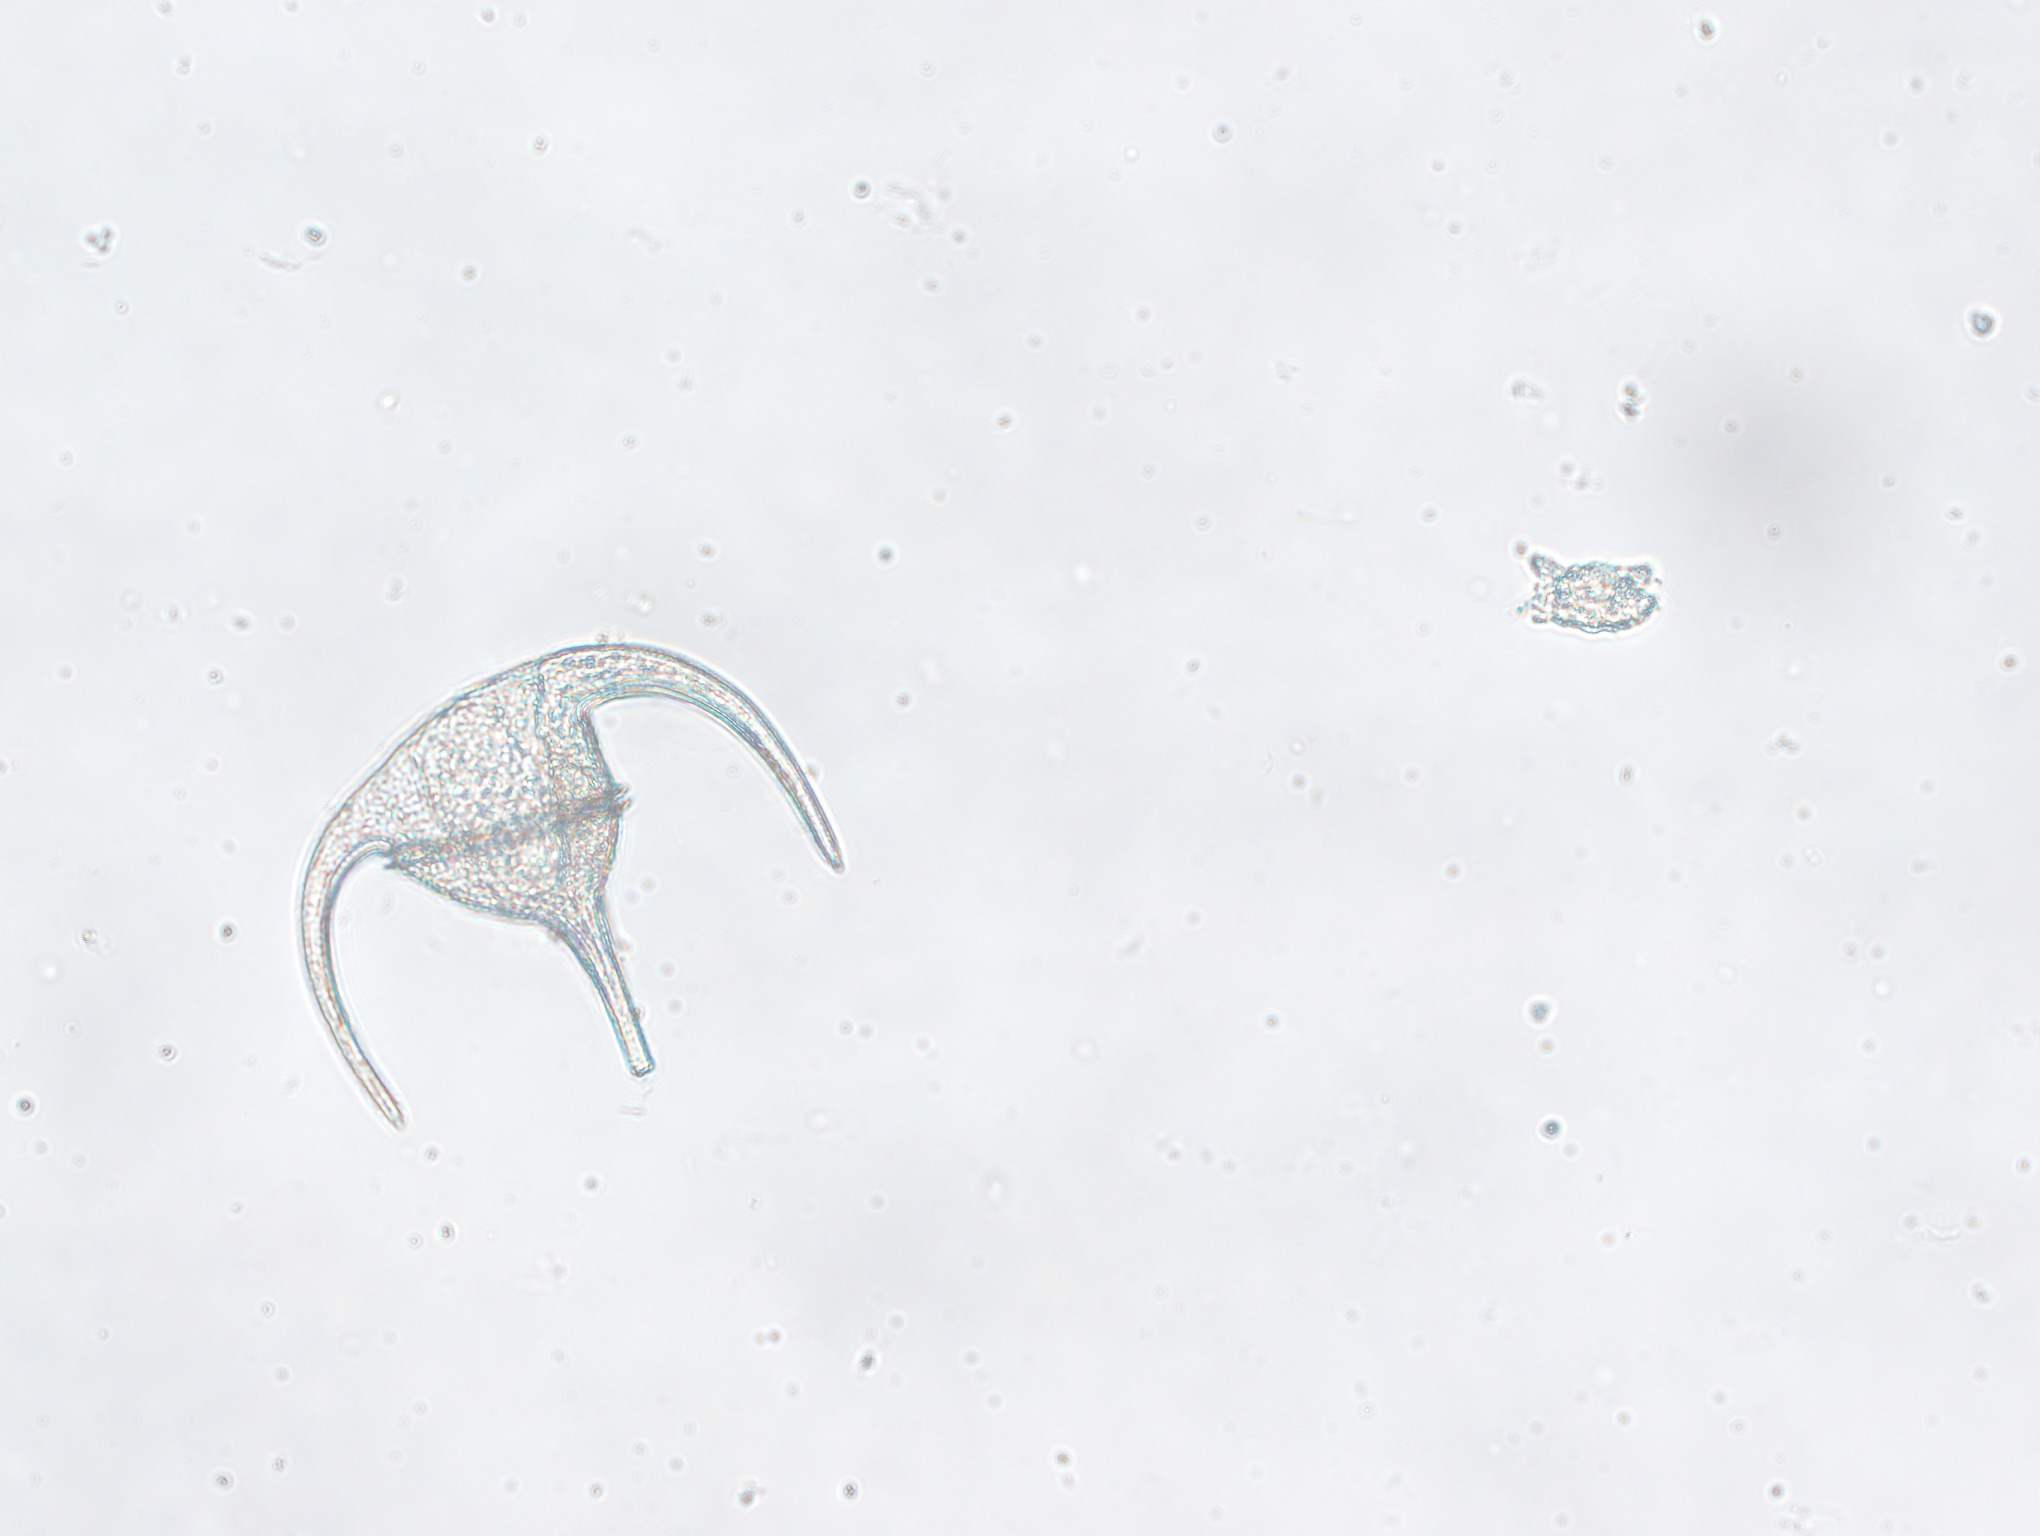ceratium tripos: (282, 636, 877, 1134)
